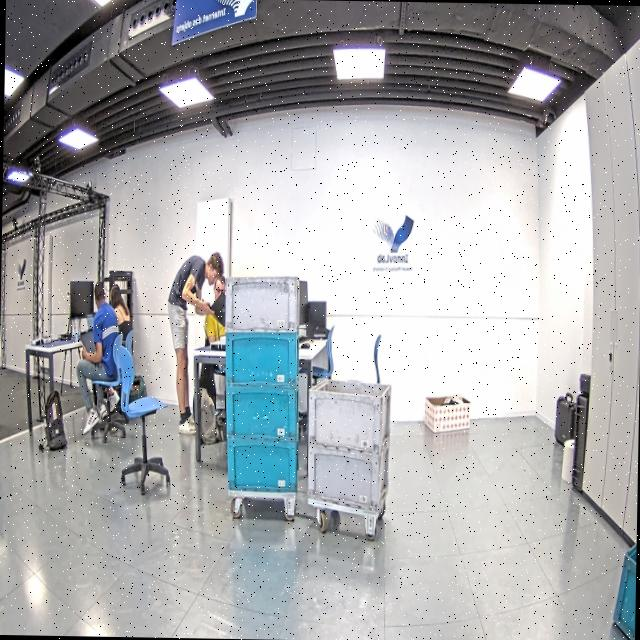Box4G: (305, 374, 391, 452), (302, 441, 391, 516), (223, 273, 300, 336)
BoxB4: (221, 384, 302, 444), (222, 330, 300, 390), (222, 438, 302, 495)
